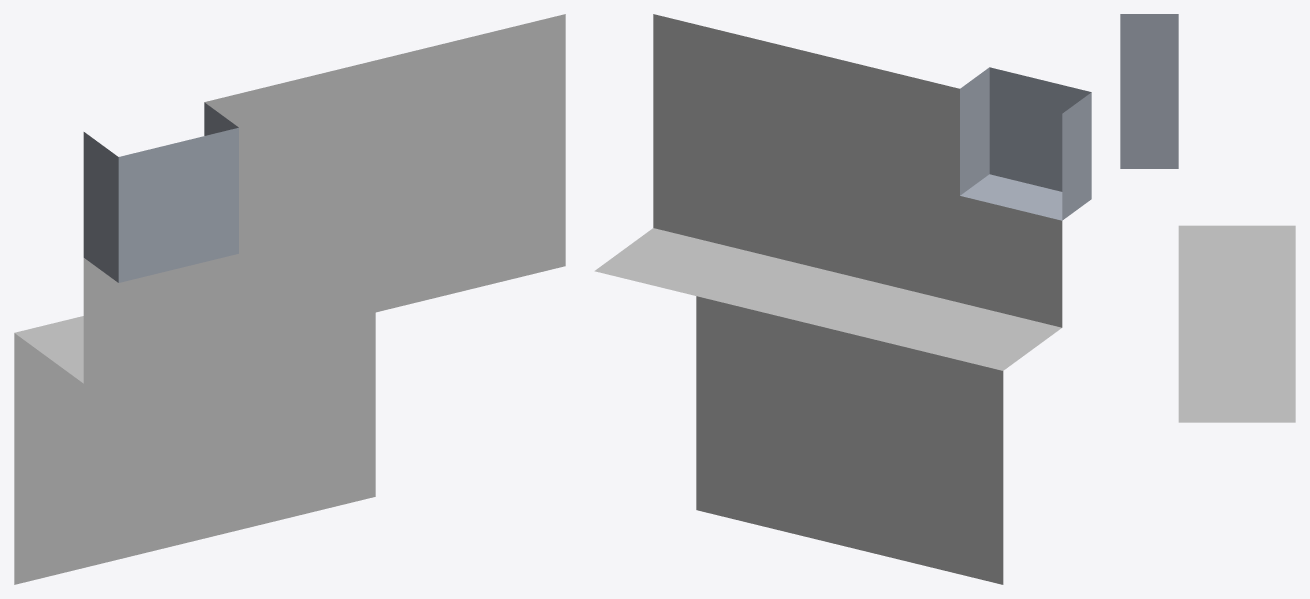
The model's file is cell_197.obj.
The picture shows the model from 3 angles, left to right: view 1: azimuth 30°, elevation 25°; view 2: azimuth 150°, elevation 25°; view 3: azimuth 270°, elevation 25°; orthographic projection. The views are drawn at different scales.
Size of the model in its own units: 1 by 1 by 0.375.
